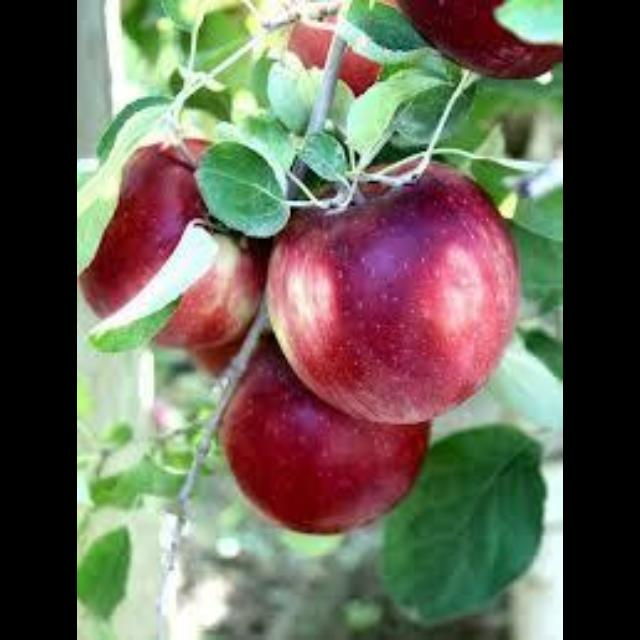apple: (268, 164, 519, 422), (221, 335, 429, 533), (79, 146, 208, 315), (397, 0, 561, 77), (156, 236, 263, 345)
